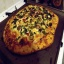olive: (19, 37, 26, 45), (46, 11, 51, 21), (13, 17, 19, 25), (48, 21, 54, 28)
pizza: (3, 5, 58, 53)
